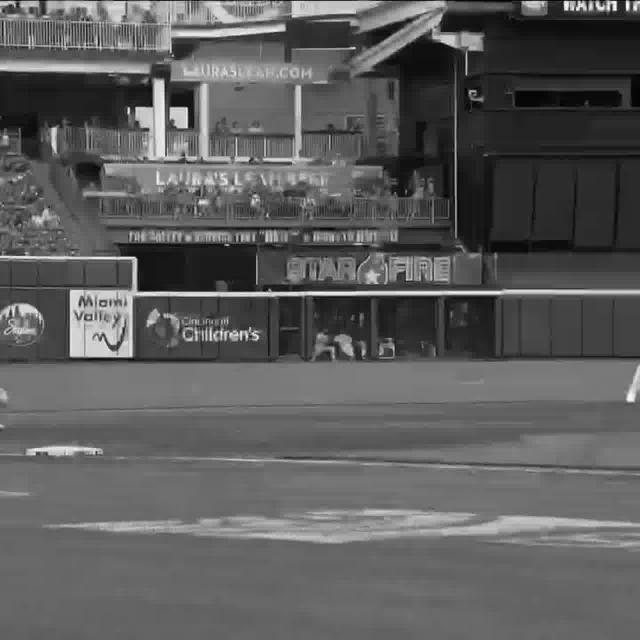base: (28, 447, 104, 458)
